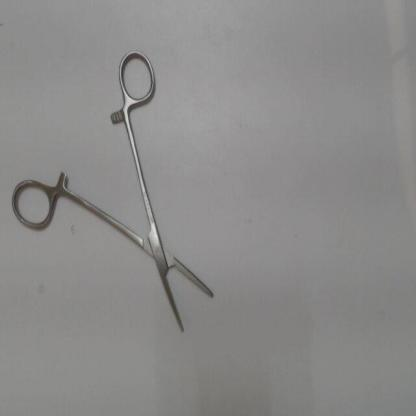Mayo Needle Holder: (6, 44, 226, 348)
